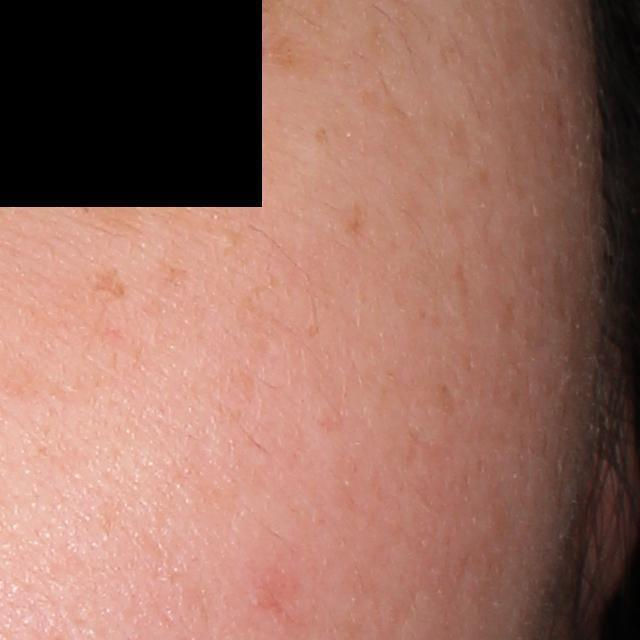comedo: (210, 224, 243, 251)
melasma: (71, 180, 146, 249), (262, 32, 305, 74), (86, 263, 127, 297), (156, 255, 188, 293), (342, 196, 368, 238), (308, 123, 331, 152)
